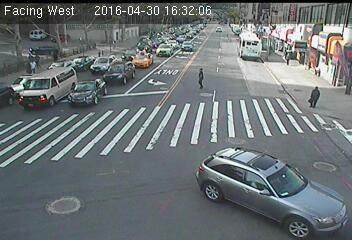neg: (128, 77, 147, 102), (196, 125, 212, 147), (243, 44, 258, 63), (82, 110, 96, 129), (154, 119, 168, 137), (245, 166, 259, 184), (278, 171, 291, 189), (147, 14, 160, 32), (200, 17, 213, 34), (241, 77, 252, 93), (128, 154, 138, 168), (108, 34, 117, 46), (230, 16, 238, 27), (139, 46, 147, 57), (164, 45, 170, 54), (127, 24, 132, 31), (97, 64, 102, 71)
pos: (305, 82, 324, 108), (192, 65, 211, 90), (31, 51, 42, 65), (281, 49, 292, 63), (30, 58, 40, 73), (22, 58, 32, 72), (26, 49, 35, 61)
